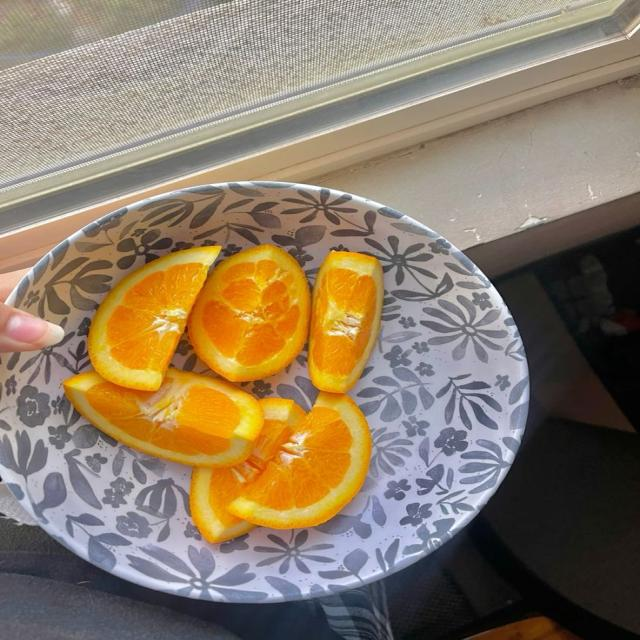orange: (227, 393, 371, 529), (64, 368, 263, 466), (88, 246, 219, 390), (189, 245, 310, 381), (190, 399, 305, 542), (309, 252, 383, 392)
